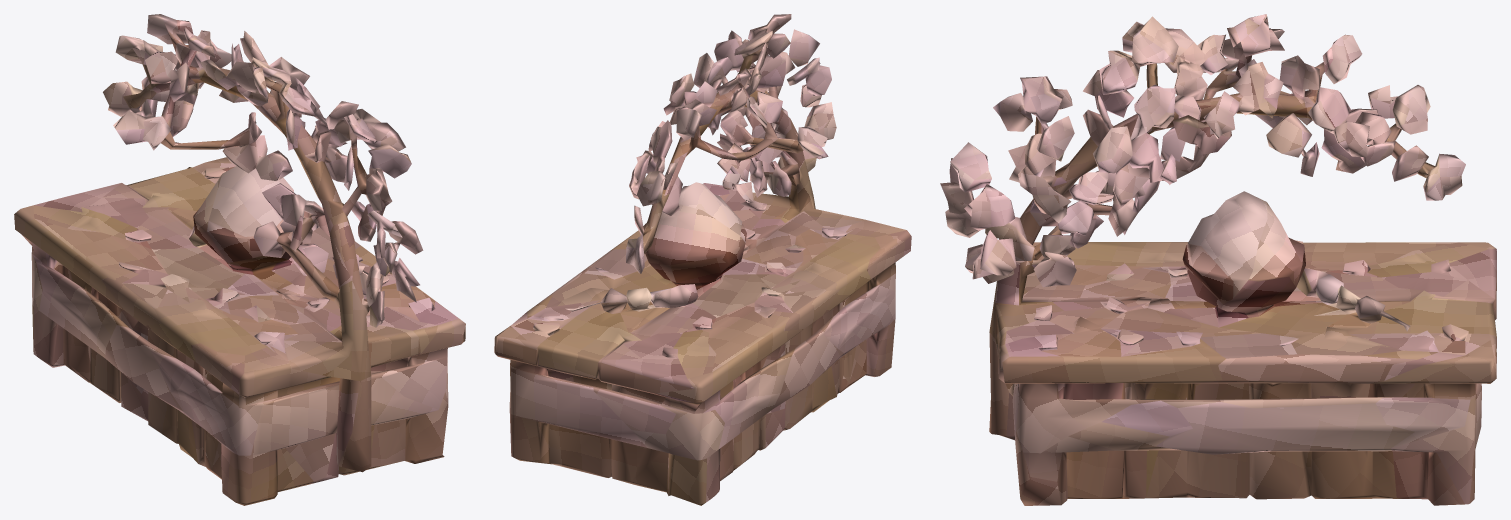
The model's file is JP_사물_s2_station_topping_t3.glb.
The picture shows the model from 3 angles, left to right: view 1: azimuth 30°, elevation 25°; view 2: azimuth 150°, elevation 25°; view 3: azimuth 270°, elevation 25°; orthographic projection. The views are drawn at different scales.
Visible parts, largest first — view 1: tripo_node_412acc10-7cab-40c4-bae2-b446d2ee2427; view 2: tripo_node_412acc10-7cab-40c4-bae2-b446d2ee2427; view 3: tripo_node_412acc10-7cab-40c4-bae2-b446d2ee2427.
Boxes of the visible parts, x1,y1,x2,y2 form: tripo_node_412acc10-7cab-40c4-bae2-b446d2ee2427: [14, 14, 465, 505]; tripo_node_412acc10-7cab-40c4-bae2-b446d2ee2427: [494, 14, 911, 505]; tripo_node_412acc10-7cab-40c4-bae2-b446d2ee2427: [940, 14, 1496, 505].
Size of the model in its own units: 0.5373 by 0.8314 by 0.9967.
1 material, 1 textured.
